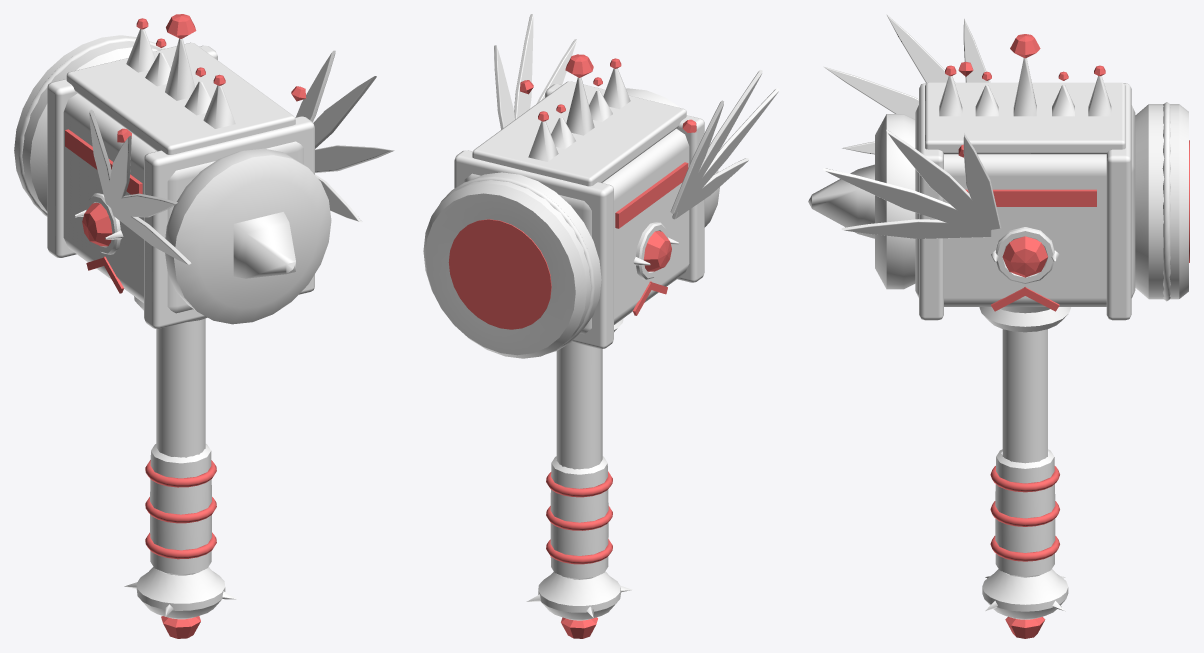
File: OwnerHammer.glb
3 renders of one model, left to right at view 1: azimuth 30°, elevation 25°; view 2: azimuth 150°, elevation 25°; view 3: azimuth 270°, elevation 25°, orthographic. The views are drawn at different scales.
Visible parts, largest first — view 1: Gold, Base, Glow; view 2: Base, Gold, Glow; view 3: Gold, Base, Glow.
Boxes of the visible parts, x1,y1,x2,y2 form: Gold: (18, 29, 394, 619); Base: (14, 35, 303, 575); Glow: (65, 14, 306, 638); Base: (423, 128, 689, 579); Gold: (440, 14, 779, 620); Glow: (448, 54, 696, 638); Gold: (808, 14, 1170, 619); Base: (915, 104, 1188, 577); Glow: (945, 34, 1189, 638).
Bounding box in the file's own units: 2.9 × 6.92 × 3.99.
